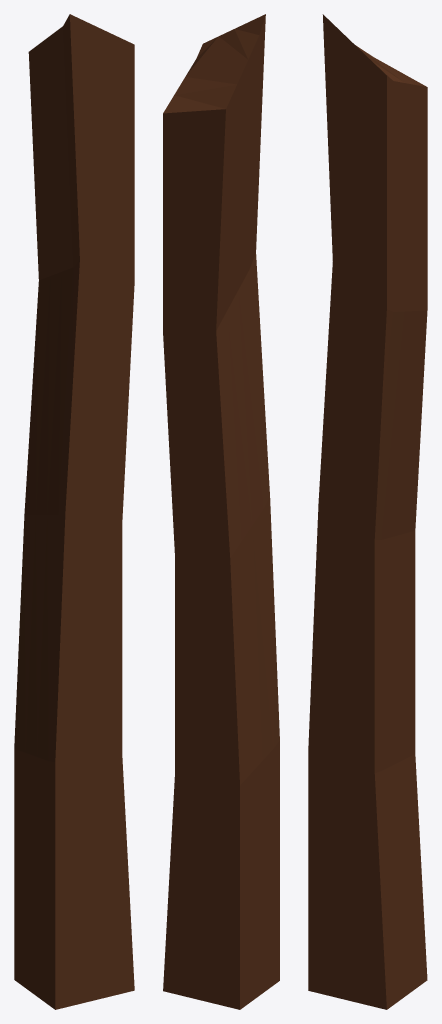
Rendered from woodenpoll.dae.
The picture shows the model from 3 angles, left to right: view 1: azimuth 30°, elevation 25°; view 2: azimuth 150°, elevation 25°; view 3: azimuth 330°, elevation 25°; orthographic projection. The views are drawn at different scales.
Parts seen in each view (by area): view 1: poll; view 2: poll; view 3: poll.
Part boxes in pixels (x1,y1,x2,y2): poll: (14, 14, 134, 1009); poll: (163, 14, 279, 1009); poll: (308, 14, 427, 1009).
Size of what is drawn, in the model's own units: 0.3392 by 0.304 by 4.05.
